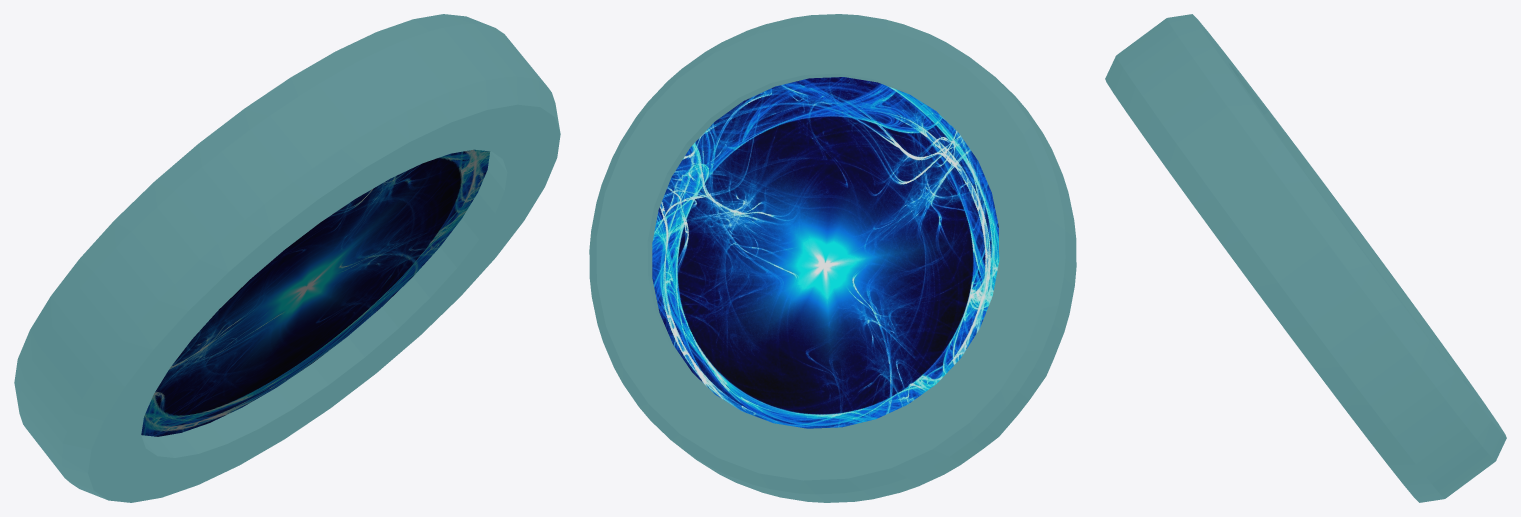
File: Shield.fbx
The picture shows the model from 3 angles, left to right: view 1: azimuth 30°, elevation 25°; view 2: azimuth 150°, elevation 25°; view 3: azimuth 270°, elevation 25°; orthographic projection. The views are drawn at different scales.
Visible parts, largest first — view 1: Cylinder; view 2: Cylinder; view 3: Cylinder.
Boxes of the visible parts, x1=… form: Cylinder: x1=14, y1=14, x2=560, y2=502; Cylinder: x1=589, y1=14, x2=1076, y2=502; Cylinder: x1=1105, y1=14, x2=1506, y2=502.
Bounding box in the file's own units: 194 × 177 × 142.
Materials: 2 (1 with a texture image).
